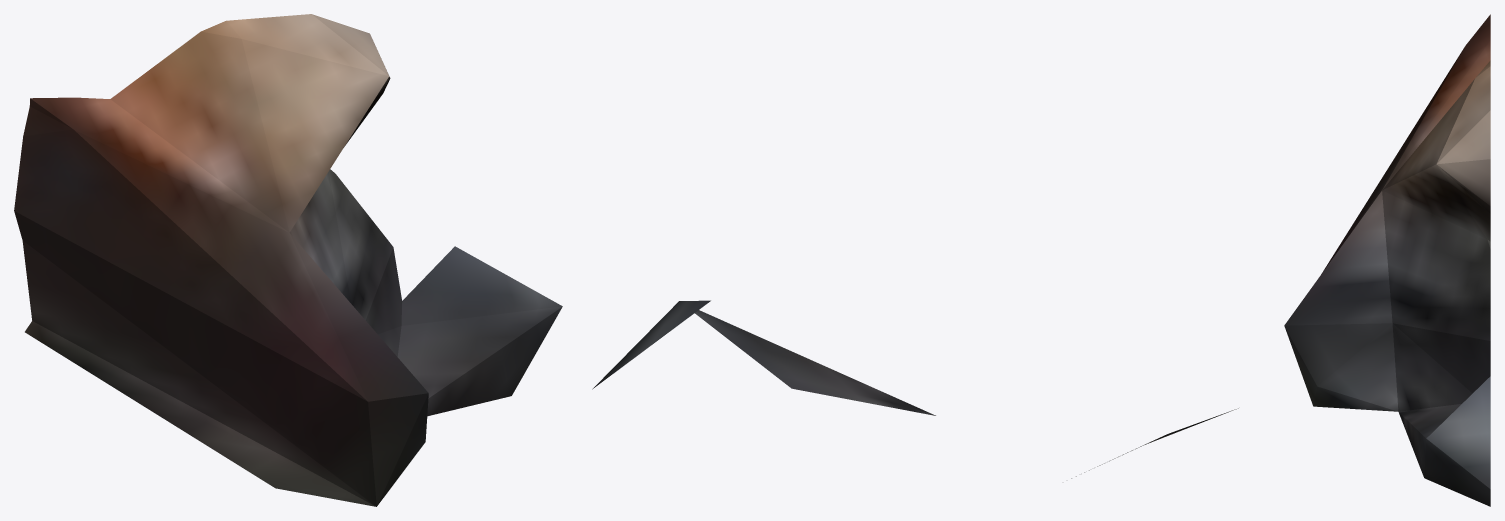
3 renders of one model, left to right at view 1: azimuth 30°, elevation 25°; view 2: azimuth 150°, elevation 25°; view 3: azimuth 270°, elevation 25°, orthographic. The views are drawn at different scales.
Bounding box in the file's own units: 0.3988 × 0.3042 × 0.168.
1 material, 1 textured.
